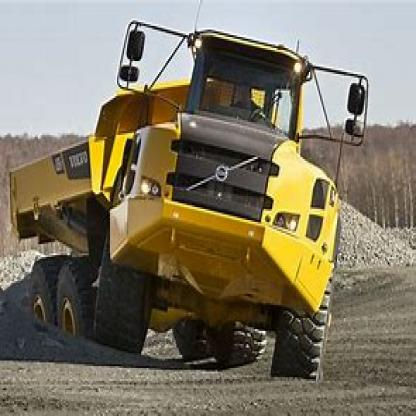dump_truck: (10, 15, 365, 381)
